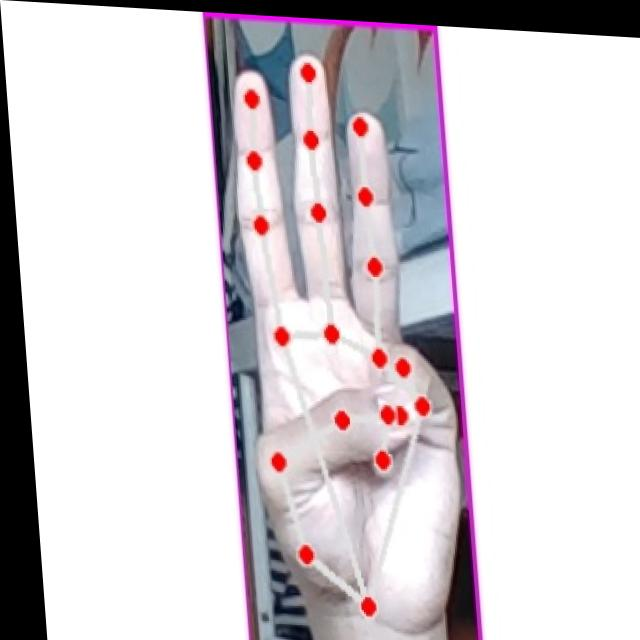W: (224, 43, 459, 620)
